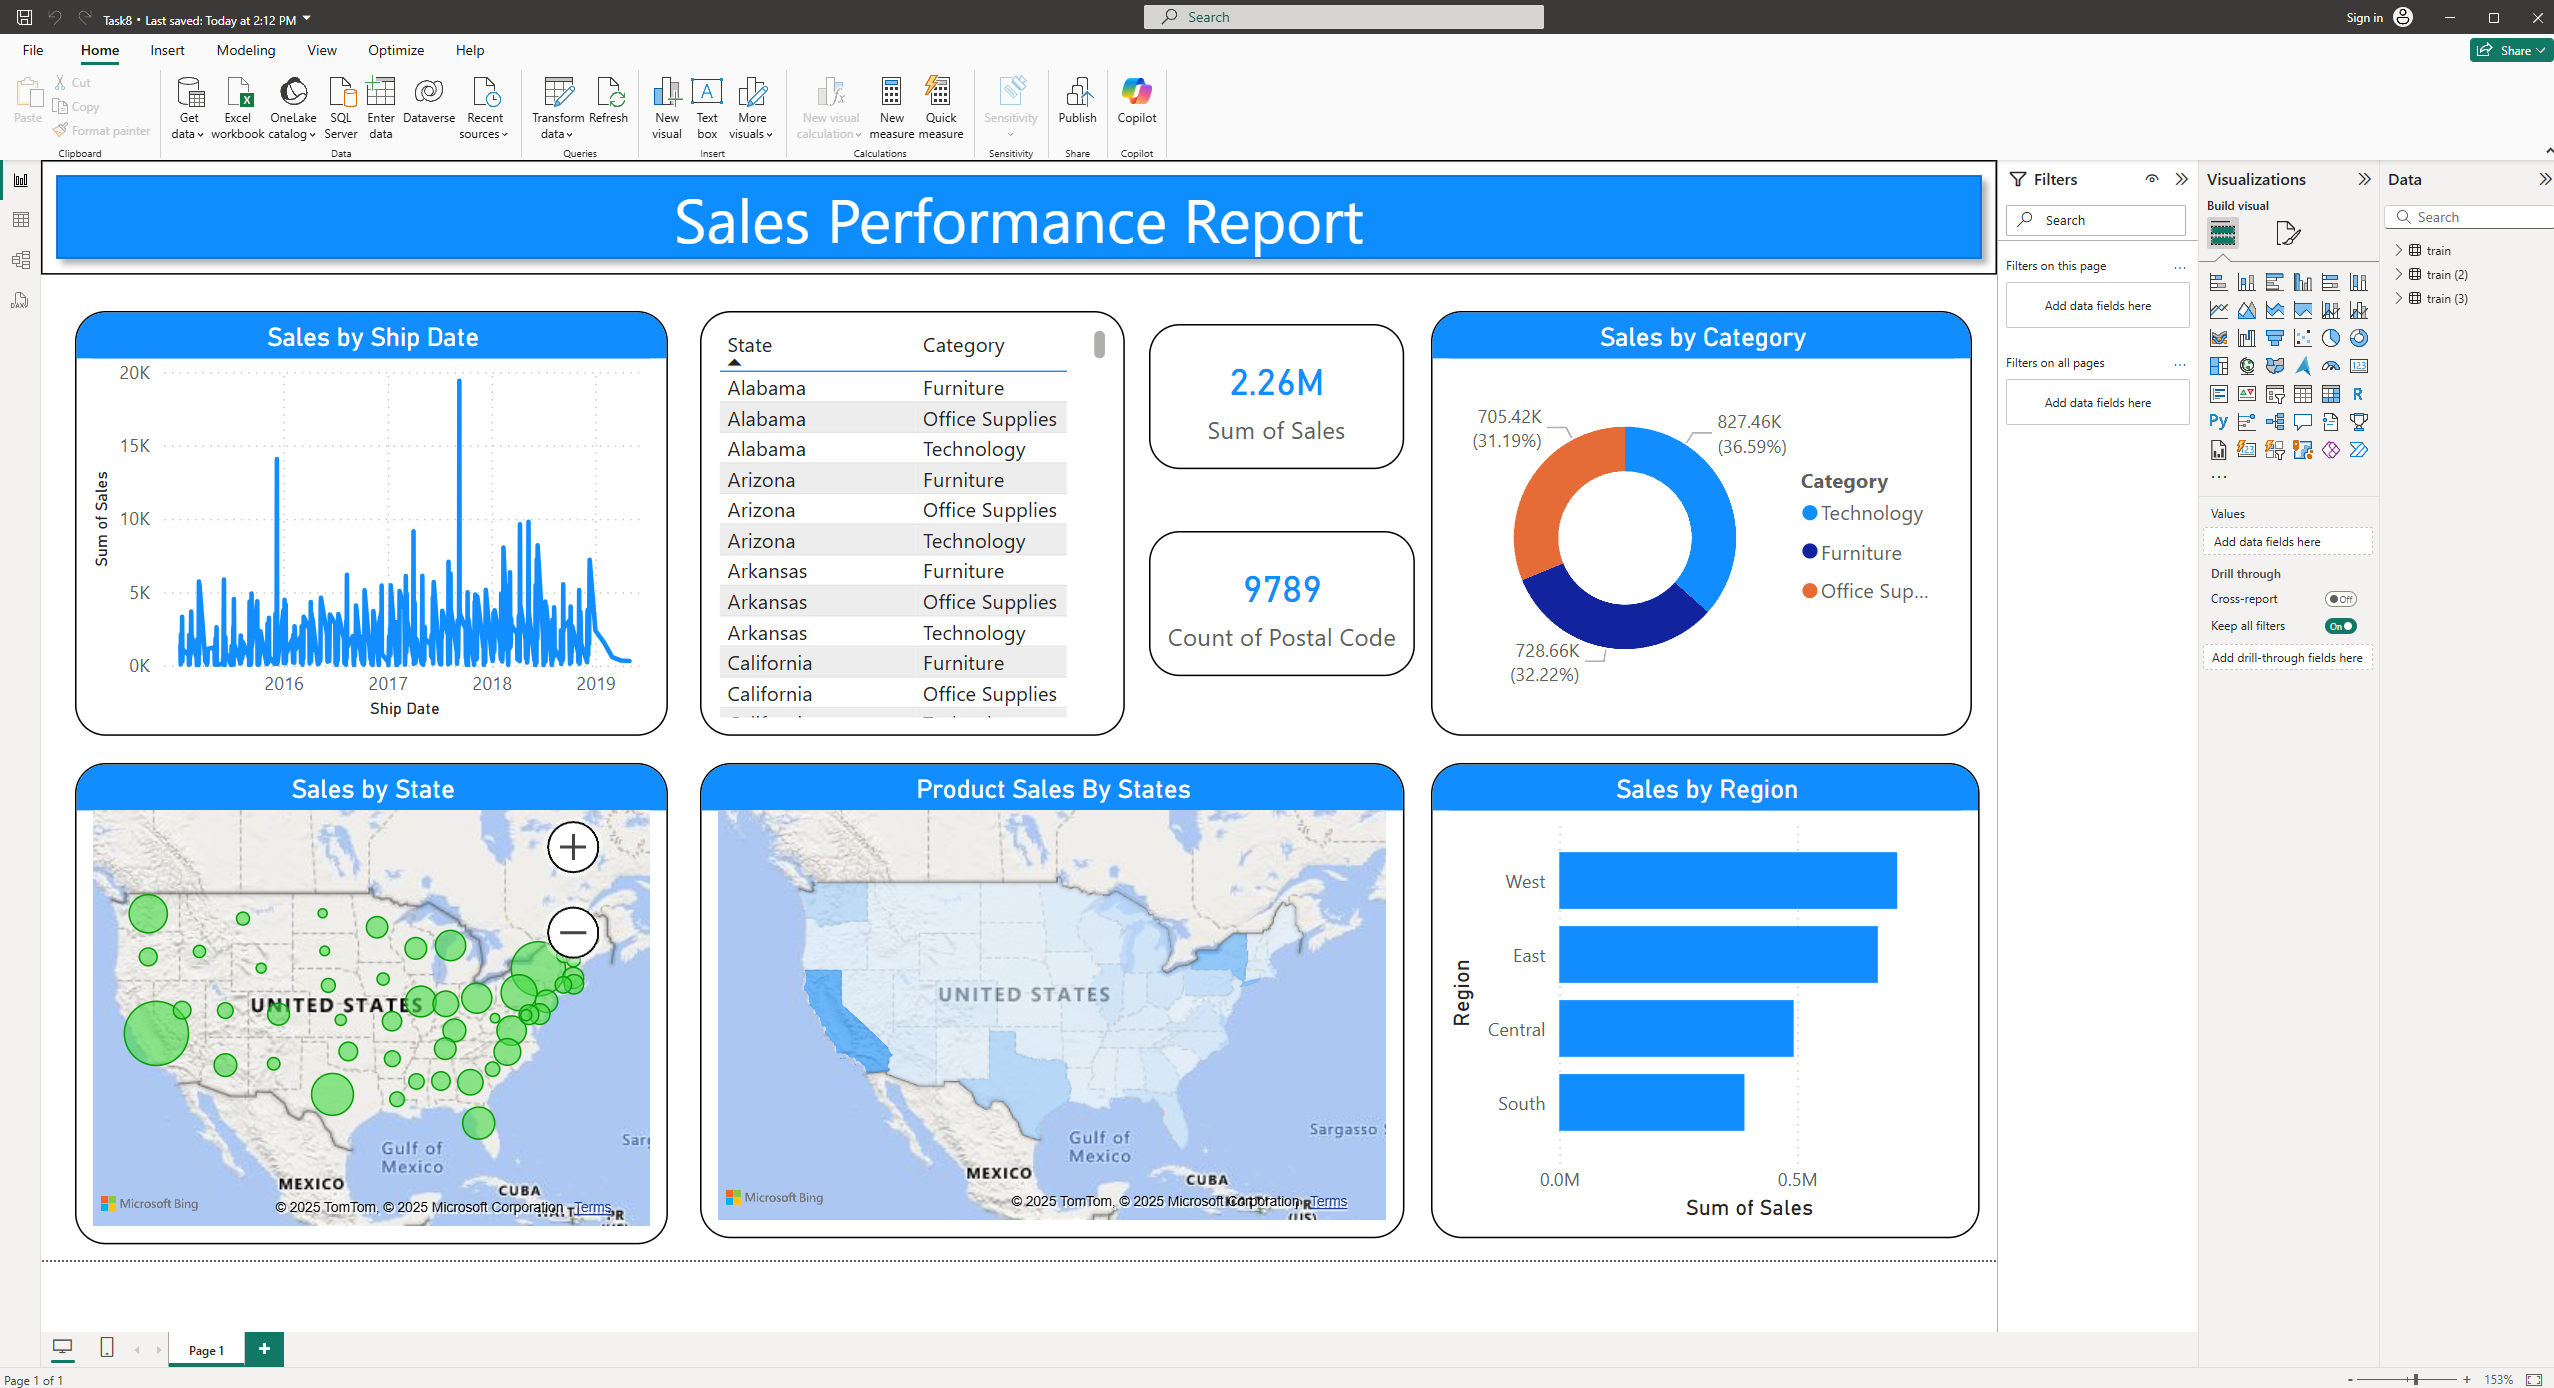

The page's visual inventory and layout, read from the dashboard file:
{"tool":"powerbi","page":{"name":"Page 1","canvas":[1280,720],"ordinal":0},"visuals":[{"type":"lineChart","title":"Sales by Ship Date","fields":{"Category":["train (2).Ship Date"],"Y":["Sum(train (2).Sales)"]},"box":[22.2,98.8,388.1,278.1],"z":0},{"type":"clusteredBarChart","title":" Sales by Region","fields":{"Category":["train (2).Region"],"Y":["Sum(train (2).Sales)"]},"box":[909.6,394.6,359.3,310.8],"z":1},{"type":"donutChart","title":"Sales by Category","fields":{"Category":["train (2).Category"],"Y":["Sum(train (2).Sales)"]},"box":[909.6,98.8,354,278.1],"z":2},{"type":"tableEx","fields":{"Values":["train.State","train (2).Category"]},"box":[431.2,98.8,278.1,278.1],"z":3},{"type":"map","title":"Sales by State","fields":{"Category":["train.State"],"Size":["Sum(train.Sales)"]},"box":[22.2,394.6,388.1,315.4],"z":4},{"type":"shape","box":[0,0,1280,74.6],"z":5},{"type":"card","fields":{"Values":["Sum(train.Sales)"]},"box":[725.1,107.3,166.9,94.9],"z":6},{"type":"card","fields":{"Values":["CountNonNull(train.Postal Code)"]},"box":[725.1,242.8,174.1,94.9],"z":7},{"type":"filledMap","title":"Product Sales By States","fields":{"Category":["train (2).State"],"Y":["Min(train.Product Name)"]},"box":[431.2,394.6,460.7,310.8],"z":8}]}

Visuals, with their boxes on the page's 1280x720 design canvas (x1, y1, x2, y2). These are canvas units, not pixel positions in the 2554x1388 screenshot, which may show the page scaled, cropped or inside an application window:
"Sales by Ship Date" lineChart: rect(22, 99, 410, 377)
" Sales by Region" clusteredBarChart: rect(910, 395, 1269, 705)
"Sales by Category" donutChart: rect(910, 99, 1264, 377)
tableEx - train.State x train (2).Category: rect(431, 99, 709, 377)
"Sales by State" map: rect(22, 395, 410, 710)
shape: rect(0, 0, 1280, 75)
card - Sum(train.Sales): rect(725, 107, 892, 202)
card - CountNonNull(train.Postal Code): rect(725, 243, 899, 338)
"Product Sales By States" filledMap: rect(431, 395, 892, 705)
